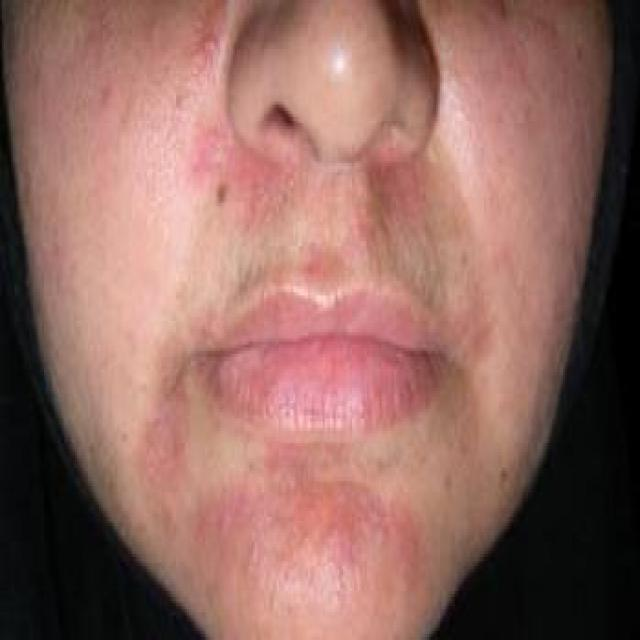blackheads: (491, 0, 511, 18), (215, 182, 229, 206)
